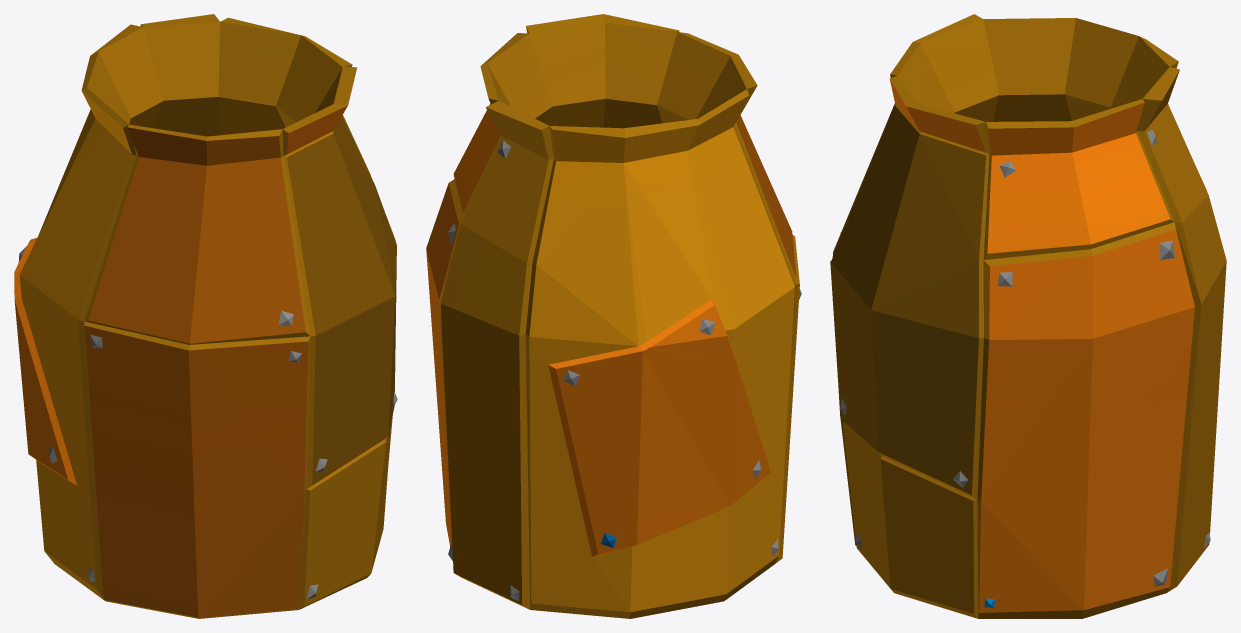
The model's file is Cobber Vase.glb.
3 views of the same model, side by side, from view 1: azimuth 30°, elevation 25°; view 2: azimuth 150°, elevation 25°; view 3: azimuth 270°, elevation 25° (orthographic).
Visible parts, largest first — view 1: PlateVase; view 2: PlateVase; view 3: PlateVase.
Part boxes in pixels (x1,y1,x2,y2): PlateVase: [14, 14, 397, 618]; PlateVase: [426, 14, 801, 618]; PlateVase: [830, 14, 1226, 618].
Size of what is drawn, in the model's own units: 0.5638 by 0.7976 by 0.5927.
1 material, 1 textured.
